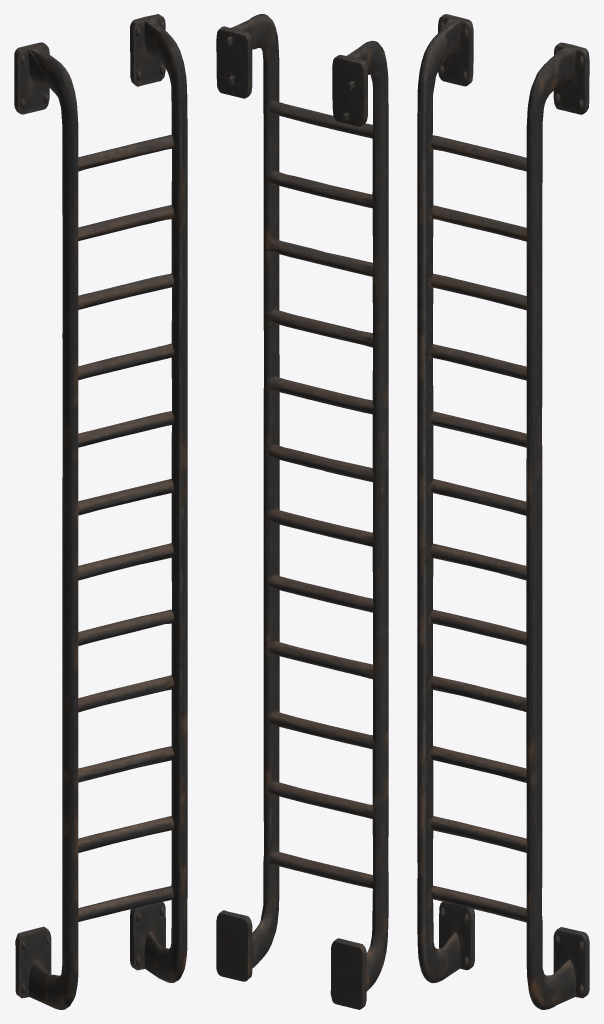
File: steel_ladder_segment.glb
3 renders of one model, left to right at view 1: azimuth 30°, elevation 25°; view 2: azimuth 150°, elevation 25°; view 3: azimuth 330°, elevation 25°, orthographic.
Visible parts, largest first — view 1: main; view 2: main; view 3: main.
Boxes of the visible parts, <box> form: main: <box>14,14,187,1009</box>; main: <box>216,14,388,1009</box>; main: <box>417,14,589,1009</box>.
Size of the model in its own units: 0.6069 by 3.71 by 0.3257.
Materials: 1 (1 with a texture image).
